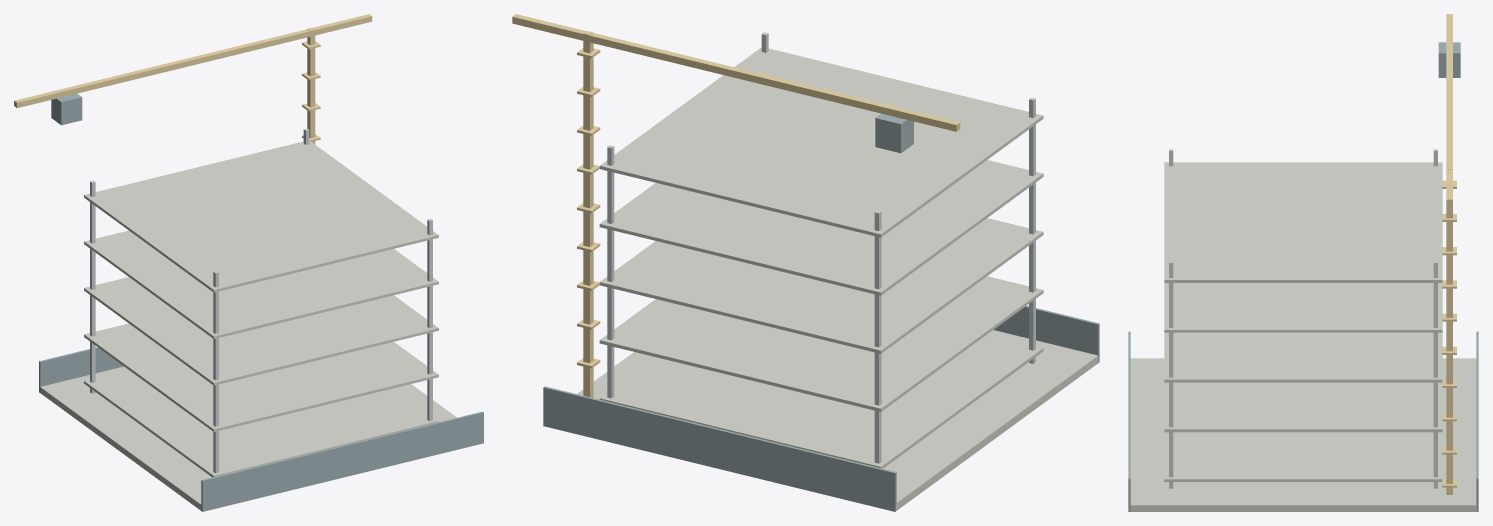
The model's file is remaster_site_2_3.glb.
3 renders of one model, left to right at view 1: azimuth 30°, elevation 25°; view 2: azimuth 150°, elevation 25°; view 3: azimuth 270°, elevation 25°, orthographic. The views are drawn at different scales.
Visible parts, largest first — view 1: remaster_site_2_3 stone, remaster_site_2_3 roof, remaster_site_2_3 gold, remaster_site_2_3 metal; view 2: remaster_site_2_3 stone, remaster_site_2_3 roof, remaster_site_2_3 gold, remaster_site_2_3 metal; view 3: remaster_site_2_3 stone, remaster_site_2_3 gold, remaster_site_2_3 metal, remaster_site_2_3 roof.
Part boxes in pixels (left/top/right/bottom): remaster_site_2_3 stone: left=39, top=140, right=456, bottom=510; remaster_site_2_3 roof: left=39, top=93, right=483, bottom=511; remaster_site_2_3 gold: left=14, top=14, right=372, bottom=144; remaster_site_2_3 metal: left=90, top=128, right=432, bottom=473; remaster_site_2_3 stone: left=577, top=47, right=1098, bottom=510; remaster_site_2_3 roof: left=543, top=113, right=1099, bottom=511; remaster_site_2_3 gold: left=512, top=14, right=960, bottom=399; remaster_site_2_3 metal: left=607, top=32, right=1035, bottom=463; remaster_site_2_3 stone: left=1129, top=162, right=1477, bottom=511; remaster_site_2_3 gold: left=1442, top=14, right=1456, bottom=494; remaster_site_2_3 metal: left=1169, top=149, right=1437, bottom=488; remaster_site_2_3 roof: left=1128, top=42, right=1478, bottom=511.
Bounding box in the file's own units: 24 × 20 × 19.14.
